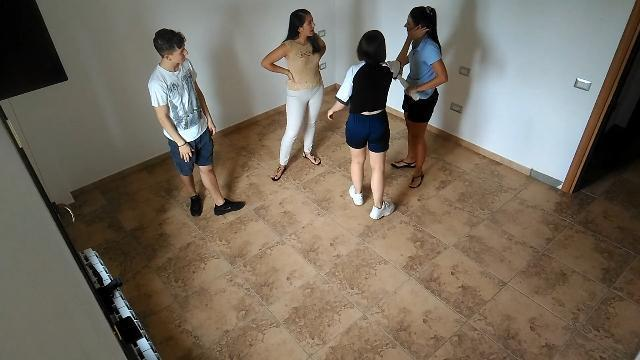non-violence: (149, 26, 245, 216), (260, 9, 326, 181)
violence: (326, 5, 446, 219)
